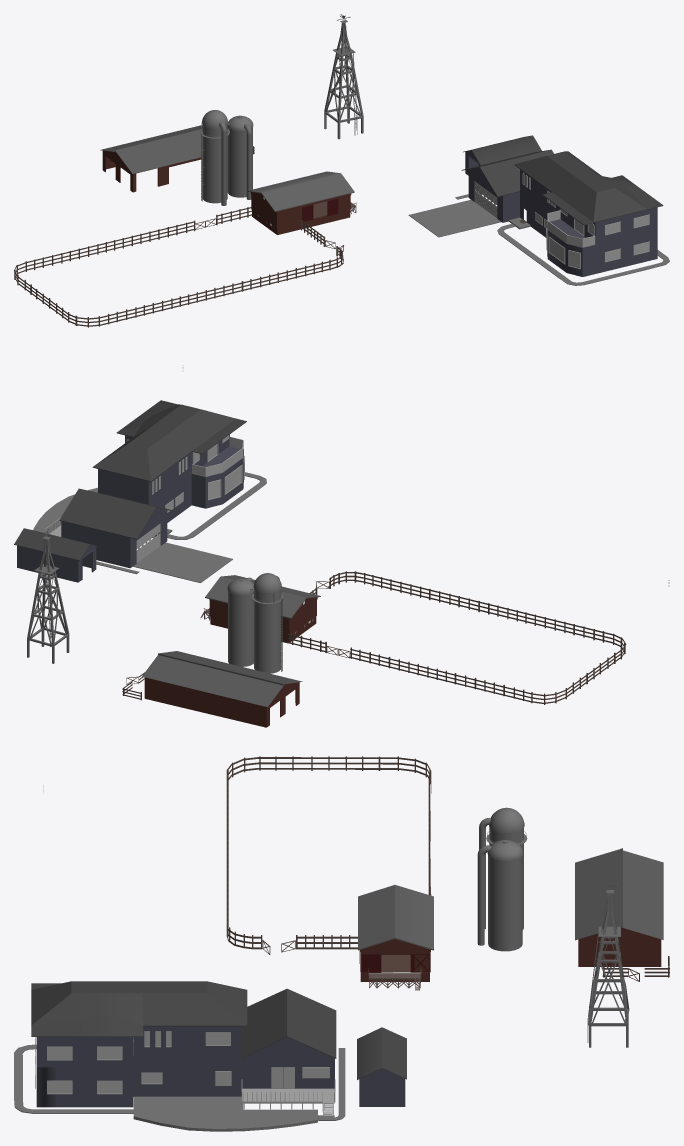
File: farm.fbx
The picture shows the model from 3 angles, top to bottom: view 1: azimuth 30°, elevation 25°; view 2: azimuth 150°, elevation 25°; view 3: azimuth 270°, elevation 25°; orthographic projection. The views are drawn at different scales.
Visible parts, largest first — view 1: brownlow_g_farm_turbosquid:garagehouse, brownlow_g_farm_turbosquid:house_roof, brownlow_g_farm_turbosquid:barn_1barn_1buildingroof, brownlow_g_farm_turbosquid:barn_2long_barn_roof_with_accent, brownlow_g_farm_turbosquid:windmill_ladder4, brownlow_g_farm_turbosquid:pCube158, brownlow_g_farm_turbosquid:barn_1barn_1barnbuilding, brownlow_g_farm_turbosquid:SILOSbodysilos, brownlow_g_farm_turbosquid:SILOSsilosbody1, brownlow_g_farm_turbosquid:houseroof, brownlow_g_farm_turbosquid:barn_3_roofbarn3, brownlow_g_farm_turbosquid:long_barnbarn_2 (+6 smaller); view 2: brownlow_g_farm_turbosquid:garagehouse, brownlow_g_farm_turbosquid:house_roof, brownlow_g_farm_turbosquid:barn_2long_barn_roof, brownlow_g_farm_turbosquid:long_barnbarn_2, brownlow_g_farm_turbosquid:houseroof, brownlow_g_farm_turbosquid:windmill_ladder4, brownlow_g_farm_turbosquid:pCube158, brownlow_g_farm_turbosquid:SILOSbodysilos, brownlow_g_farm_turbosquid:SILOSsilosbody1, brownlow_g_farm_turbosquid:barn3barn3, brownlow_g_farm_turbosquid:barn_1barn_1barnbuilding, brownlow_g_farm_turbosquid:barn_3_roofbarn3 (+9 smaller); view 3: brownlow_g_farm_turbosquid:garagehouse, brownlow_g_farm_turbosquid:house_roof, brownlow_g_farm_turbosquid:patio, brownlow_g_farm_turbosquid:houseroof, brownlow_g_farm_turbosquid:barn_1barn_1buildingroof, brownlow_g_farm_turbosquid:barn_2long_barn_roof_with_accent, brownlow_g_farm_turbosquid:barn_2long_barn_roof, brownlow_g_farm_turbosquid:SILOSsilosbody1, brownlow_g_farm_turbosquid:windmill_ladder4, brownlow_g_farm_turbosquid:long_barnbarn_2, brownlow_g_farm_turbosquid:barn_3_roofbarn3, brownlow_g_farm_turbosquid:barn3barn3 (+8 smaller).
Part boxes in pixels (x1,y1,x2,y2): brownlow_g_farm_turbosquid:garagehouse: (468,168,657,276); brownlow_g_farm_turbosquid:house_roof: (514,151,663,225); brownlow_g_farm_turbosquid:barn_1barn_1buildingroof: (247,171,354,211); brownlow_g_farm_turbosquid:barn_2long_barn_roof_with_accent: (115,129,201,173); brownlow_g_farm_turbosquid:windmill_ladder4: (324,14,363,139); brownlow_g_farm_turbosquid:pCube158: (408,200,500,237); brownlow_g_farm_turbosquid:barn_1barn_1barnbuilding: (250,192,351,234); brownlow_g_farm_turbosquid:SILOSbodysilos: (202,125,227,203); brownlow_g_farm_turbosquid:SILOSsilosbody1: (227,124,252,197); brownlow_g_farm_turbosquid:houseroof: (461,149,553,196); brownlow_g_farm_turbosquid:barn_3_roofbarn3: (463,135,541,165); brownlow_g_farm_turbosquid:long_barnbarn_2: (102,150,201,192); brownlow_g_farm_turbosquid:garagehouse: (61,434,243,568); brownlow_g_farm_turbosquid:house_roof: (92,400,246,481); brownlow_g_farm_turbosquid:barn_2long_barn_roof: (142,655,284,707); brownlow_g_farm_turbosquid:long_barnbarn_2: (144,677,299,727); brownlow_g_farm_turbosquid:houseroof: (59,488,175,539); brownlow_g_farm_turbosquid:windmill_ladder4: (27,529,69,663); brownlow_g_farm_turbosquid:pCube158: (133,542,232,582); brownlow_g_farm_turbosquid:SILOSbodysilos: (254,589,281,673); brownlow_g_farm_turbosquid:SILOSsilosbody1: (228,589,253,666); brownlow_g_farm_turbosquid:barn3barn3: (17,545,96,582); brownlow_g_farm_turbosquid:barn_1barn_1barnbuilding: (209,597,317,643); brownlow_g_farm_turbosquid:barn_3_roofbarn3: (14,528,99,560); brownlow_g_farm_turbosquid:garagehouse: (36,1026,334,1107); brownlow_g_farm_turbosquid:house_roof: (31,981,247,1036); brownlow_g_farm_turbosquid:patio: (133,1096,317,1131); brownlow_g_farm_turbosquid:houseroof: (242,988,336,1058); brownlow_g_farm_turbosquid:barn_1barn_1buildingroof: (358,885,433,950); brownlow_g_farm_turbosquid:barn_2long_barn_roof_with_accent: (575,848,622,940); brownlow_g_farm_turbosquid:barn_2long_barn_roof: (621,850,663,939); brownlow_g_farm_turbosquid:SILOSsilosbody1: (488,855,522,951); brownlow_g_farm_turbosquid:windmill_ladder4: (587,881,629,1047); brownlow_g_farm_turbosquid:long_barnbarn_2: (578,927,661,966); brownlow_g_farm_turbosquid:barn_3_roofbarn3: (357,1027,406,1079); brownlow_g_farm_turbosquid:barn3barn3: (359,1068,405,1106).
Bounding box in the file's own units: 395 × 81.78 × 305.
